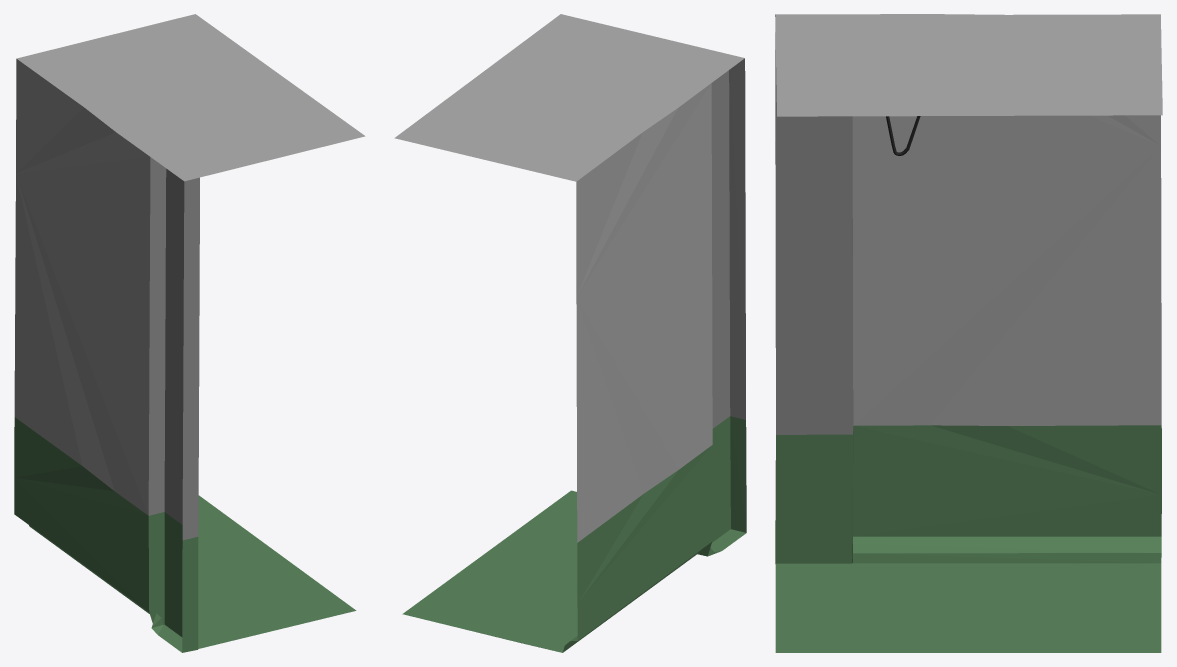
File: mapa 12.fbx
The picture shows the model from 3 angles, left to right: view 1: azimuth 30°, elevation 25°; view 2: azimuth 150°, elevation 25°; view 3: azimuth 270°, elevation 25°; orthographic projection. The views are drawn at different scales.
Visible parts, largest first — view 1: pPlane22; view 2: pPlane22; view 3: pPlane22.
Boxes of the visible parts, <box> form: pPlane22: <box>14,14,365,652</box>; pPlane22: <box>394,14,746,652</box>; pPlane22: <box>775,14,1162,652</box>.
Size of the model in its own units: 3.47 by 8.47 by 5.49.
